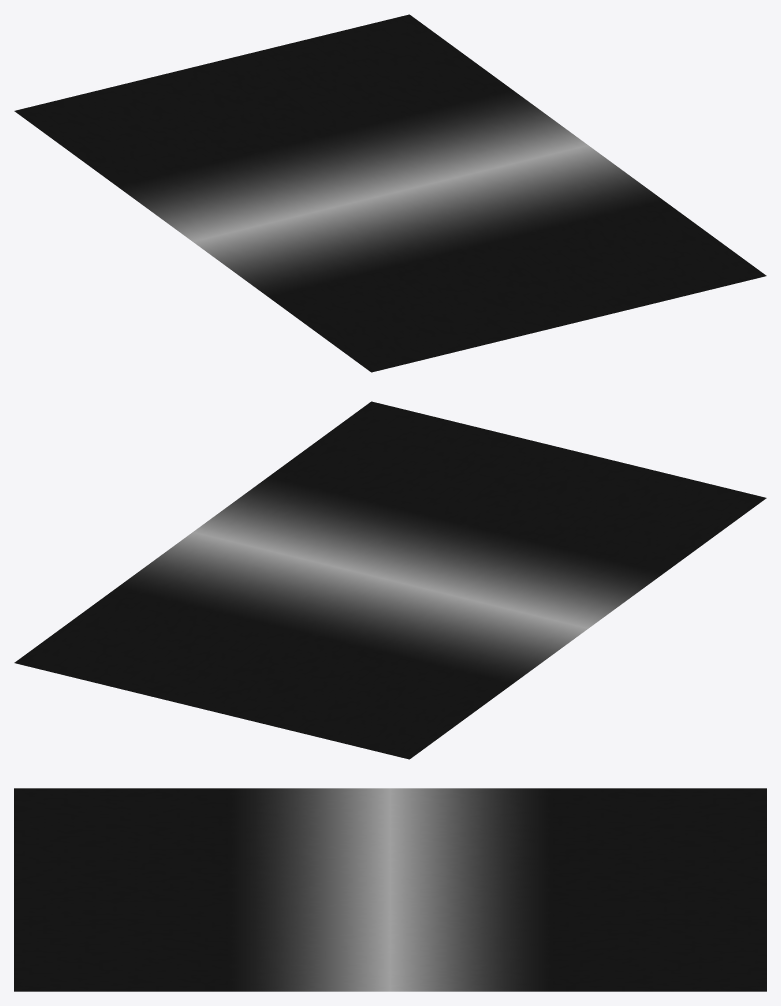
Rendered from feiziwupinlan_liuguang.FBX.
3 renders of one model, top to bottom at view 1: azimuth 30°, elevation 25°; view 2: azimuth 150°, elevation 25°; view 3: azimuth 270°, elevation 25°, orthographic. The views are drawn at different scales.
Parts seen in each view (by area): view 1: Plane001; view 2: Plane001; view 3: Plane001.
Boxes of the visible parts, x1,y1,x2,y2 form: Plane001: (14,14,766,372); Plane001: (14,401,766,759); Plane001: (14,788,766,991).
Size of the model in its own units: 44.82 by 1.99e-14 by 70.14.
Materials: 1 (1 with a texture image).
